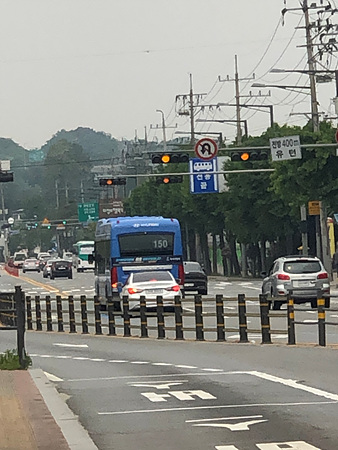bnum: (152, 237, 169, 249)
